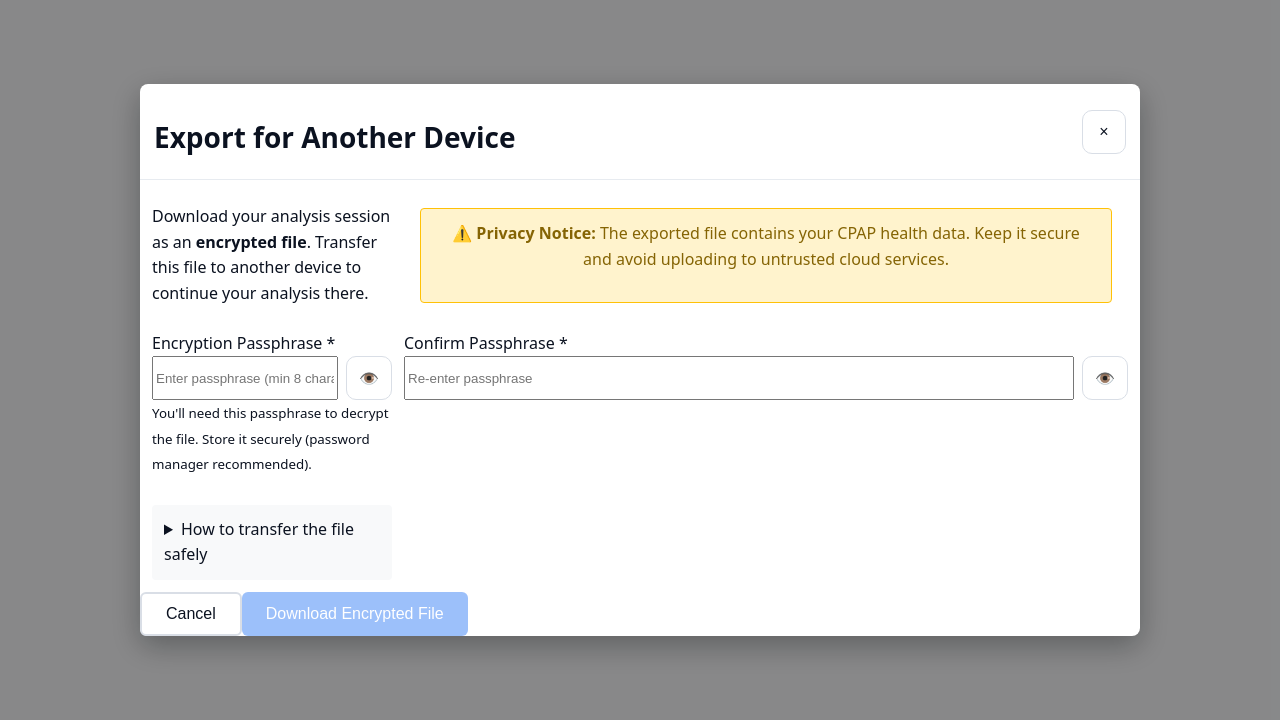
Test: ExportDataModal › should show transfer methods accordion
The image size is (1280, 720).
Note: Click to expand
Click the heading "How to transfer the file safely" at coordinates (272, 542), box [164,517,380,568]
(page scrolled)
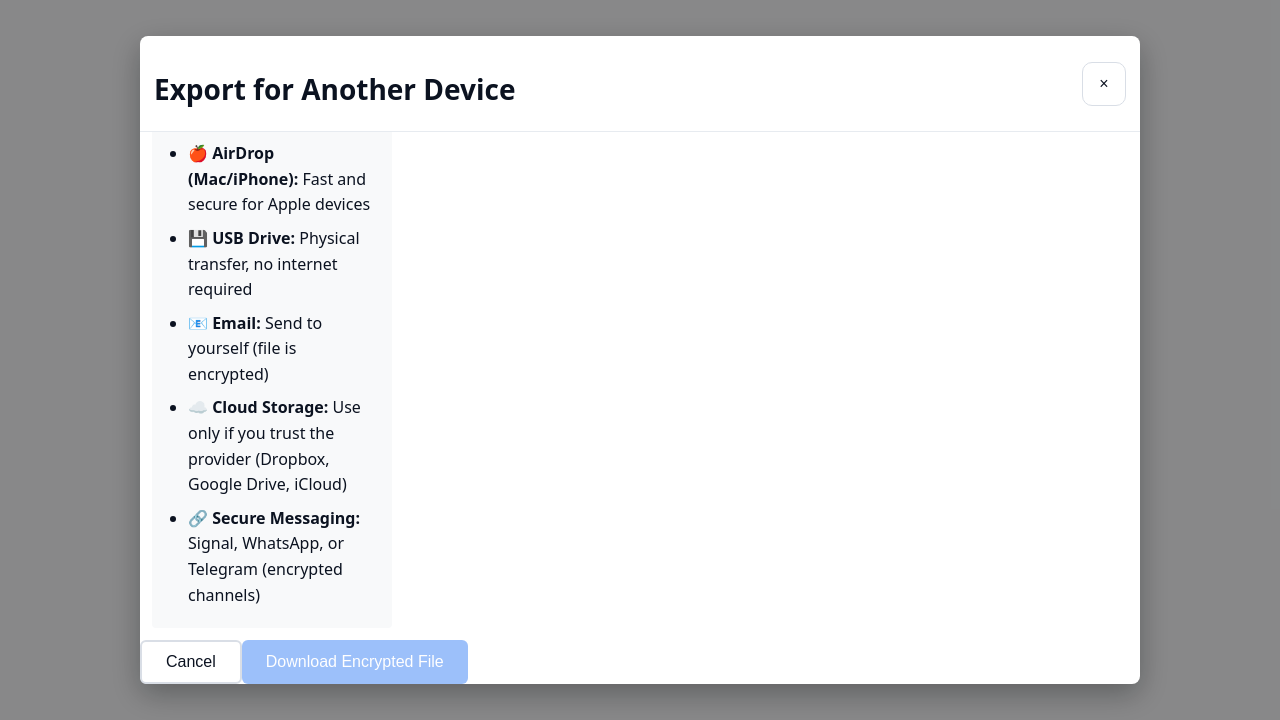
Result: the text "🍎 AirDrop (Mac/iPhone):" is shown at [188,142,298,190]
Result: the text "💾 USB Drive:" is shown at [188,227,295,249]
Result: the text "📧 Email:" is shown at [188,312,261,334]
